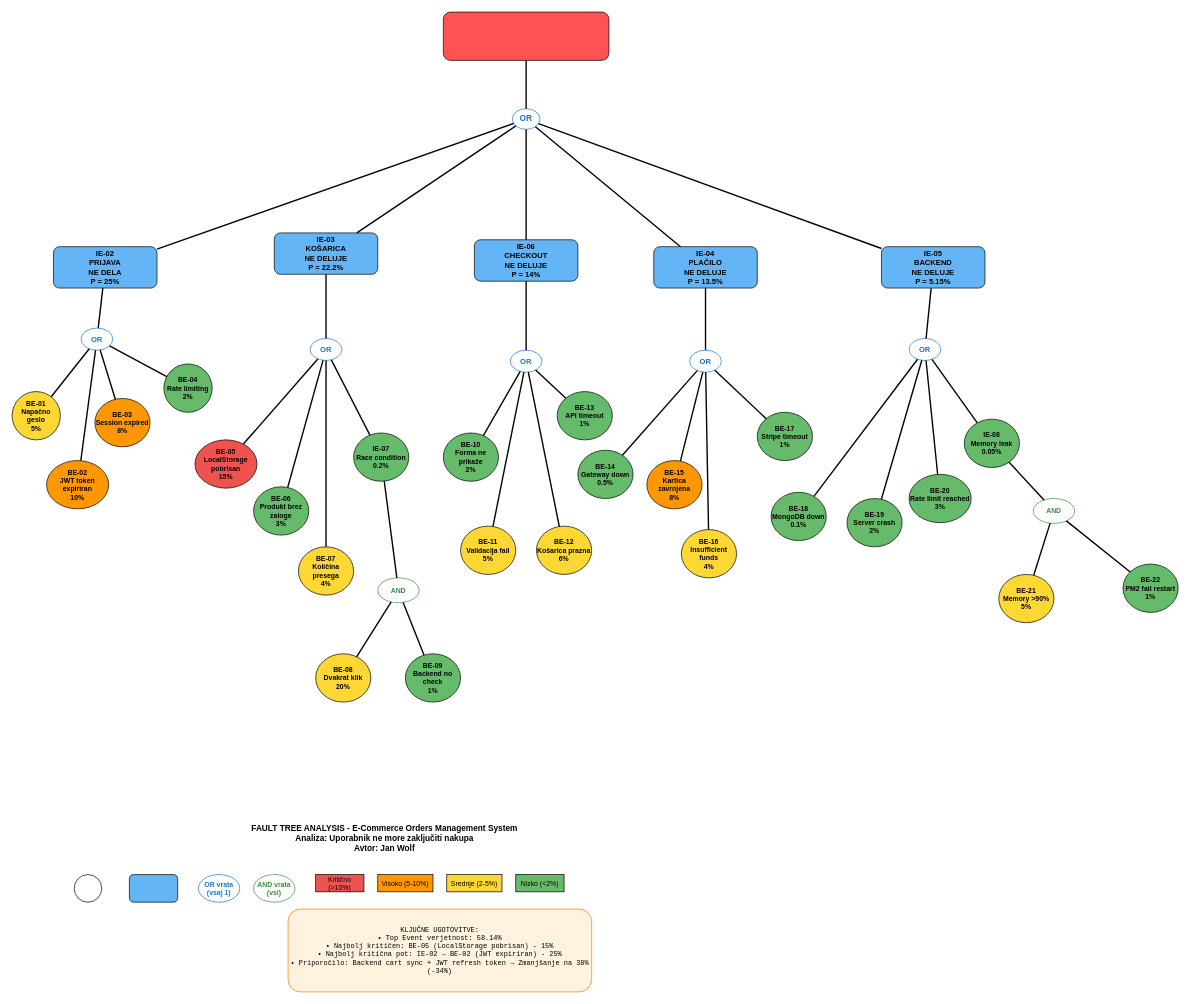
Some shapes in this 1190 by 1004 pixel diagram are drawn without their labels. Here are the shapes that lost their labels. From the top down, the centre of each, then its label:
At pixel 526 35: "UPORABNIK NE MORE ZAKLJUČITI NAKUPA TOP EVENT (IE-01) P = 58.14%".
At pixel 87 888: "Osnovni dogodek".
At pixel 153 888: "Vmesni dogodek".
